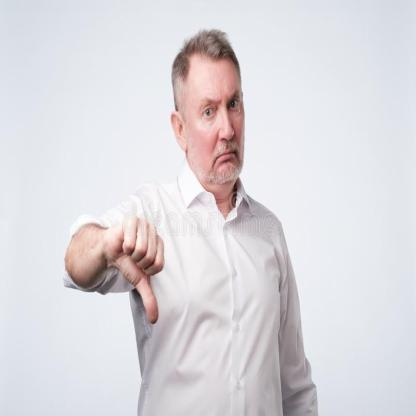Thumbs-Down: (107, 218, 166, 326)
